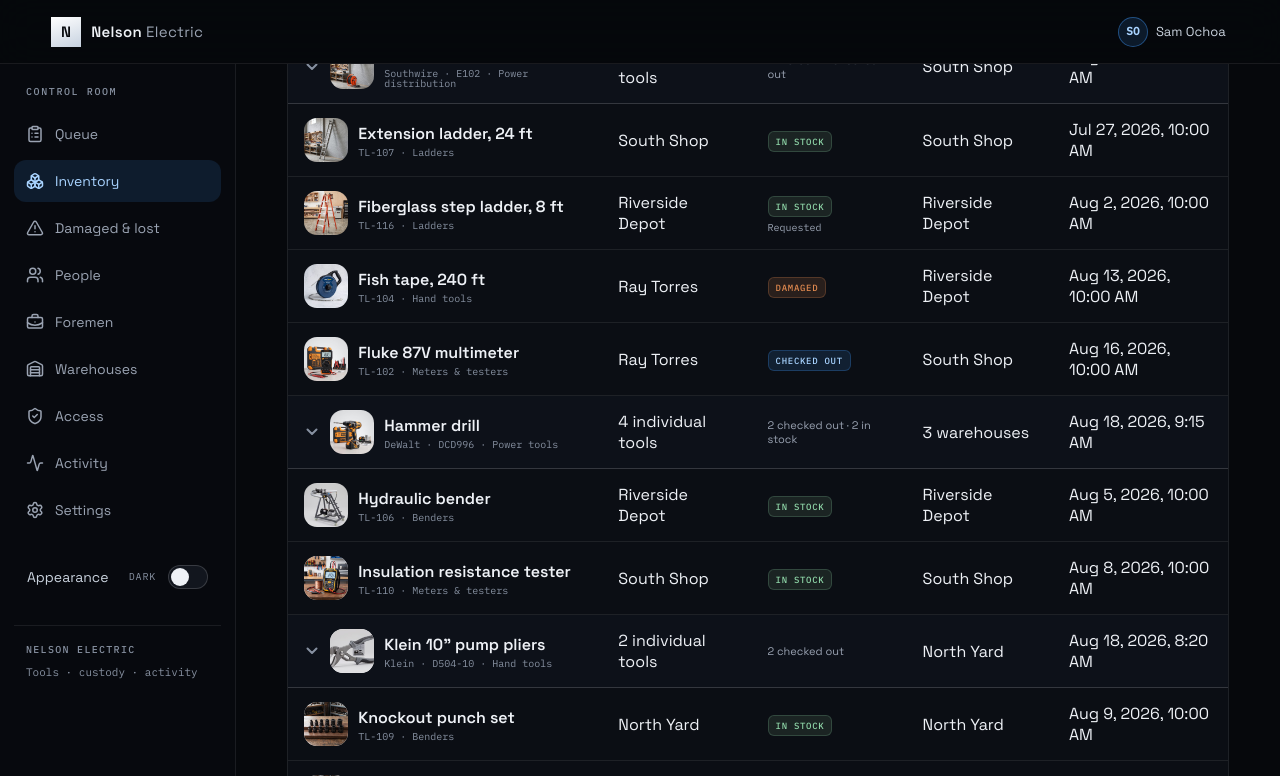
warehouse operations surfaces › nests matching individual tools under one expandable inventory group
The image size is (1280, 776).
(page scrolled)
Click the button with aria-label "Expand Hammer drill, 4 tools".
click(758, 432)  # box [288, 396, 1228, 469]
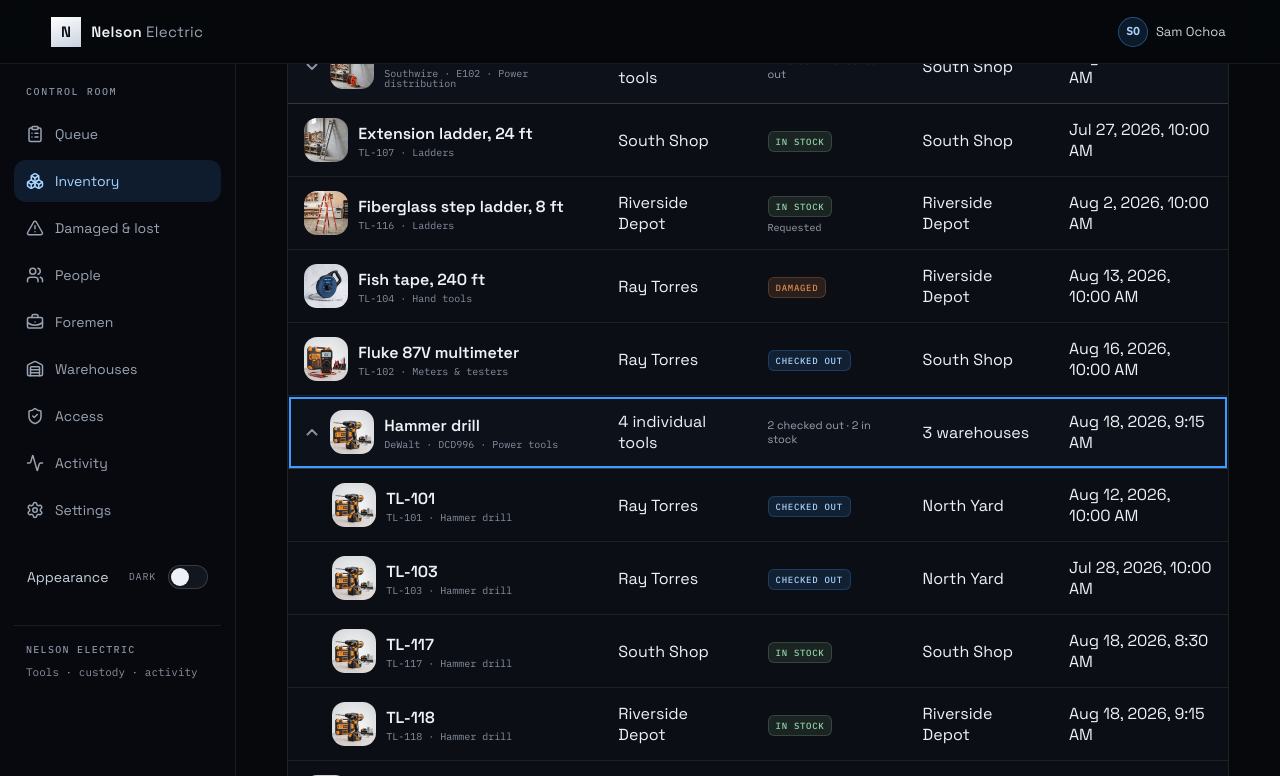
Result: the button with aria-label "Collapse Hammer drill, 4 tools" is shown at [288, 396, 1228, 469]
Result: the button with aria-label "Open Hammer drill, TL-101" is shown at [288, 469, 1228, 542]
Result: the button with aria-label "Open Hammer drill, TL-118" is shown at [288, 688, 1228, 761]
